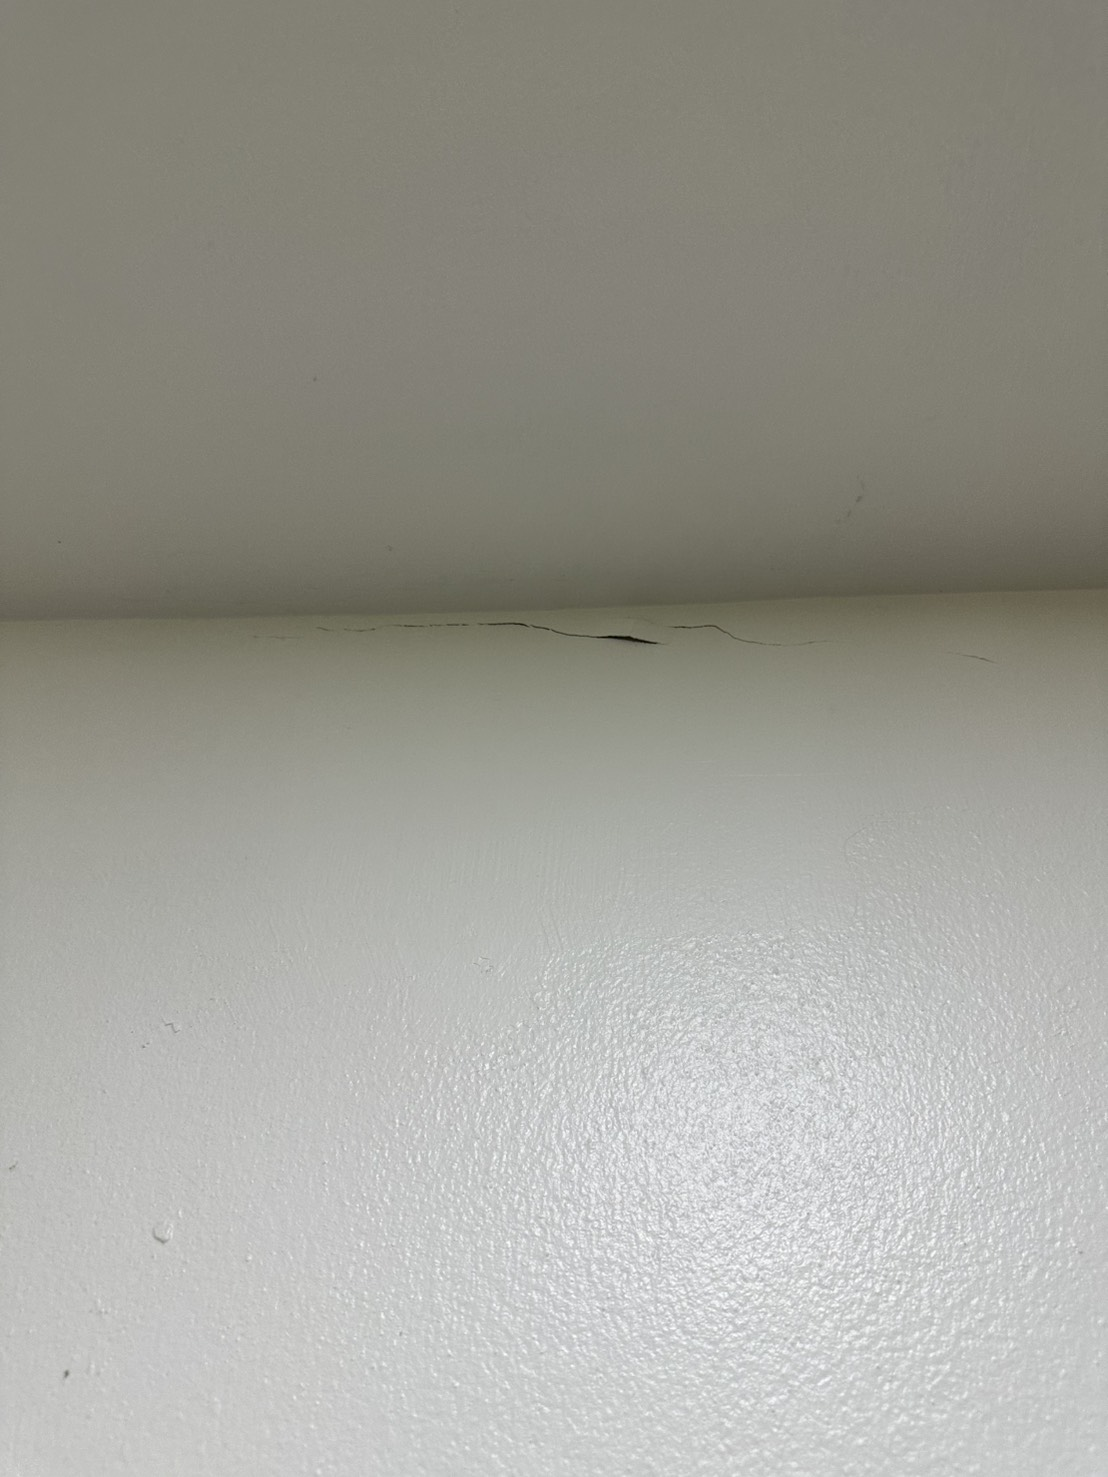Low: (1, 534, 1081, 712)
